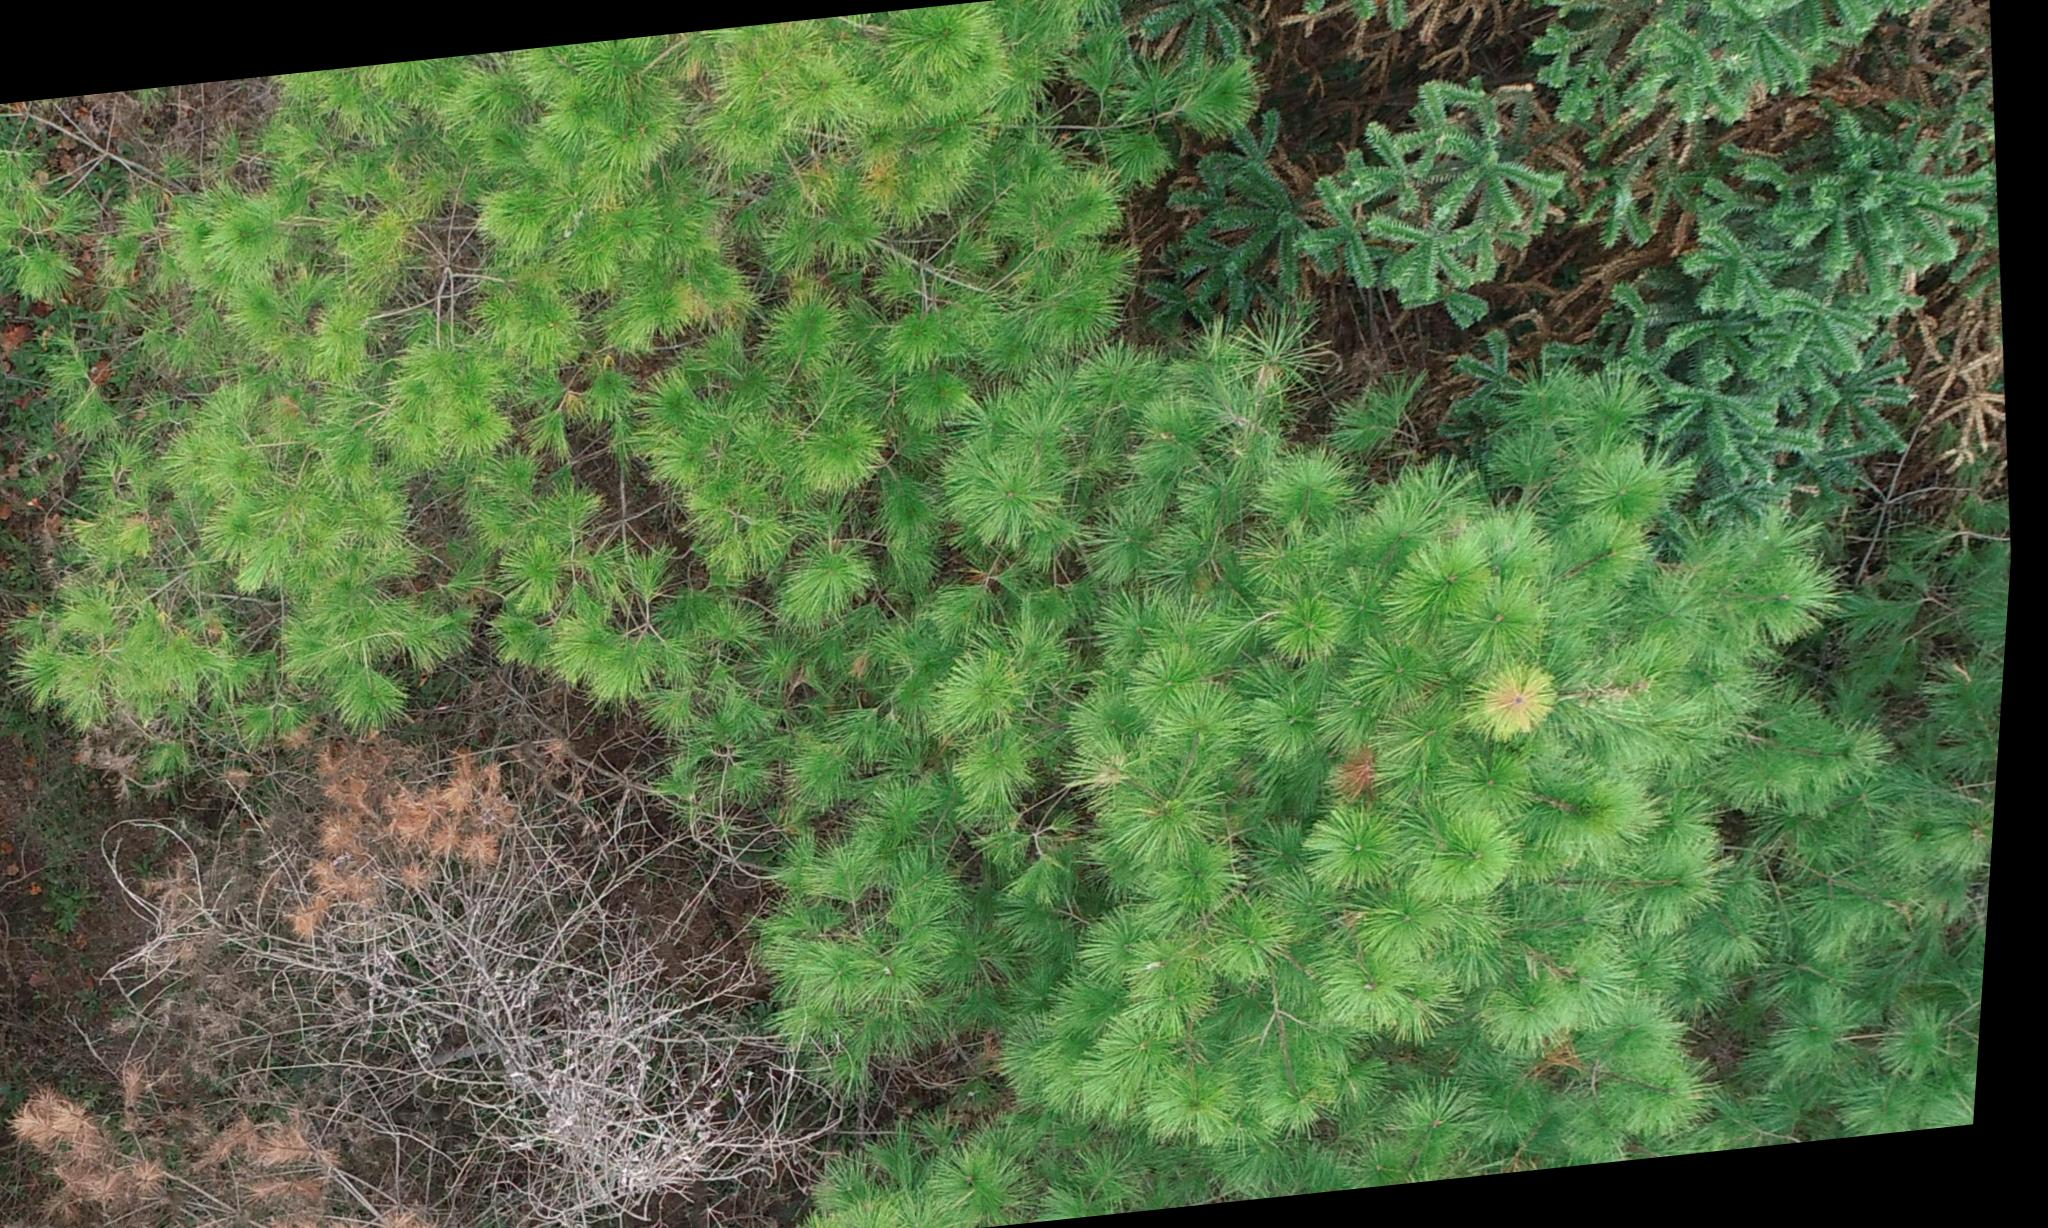heavy: (22, 1036, 573, 1228), (270, 727, 544, 909)
